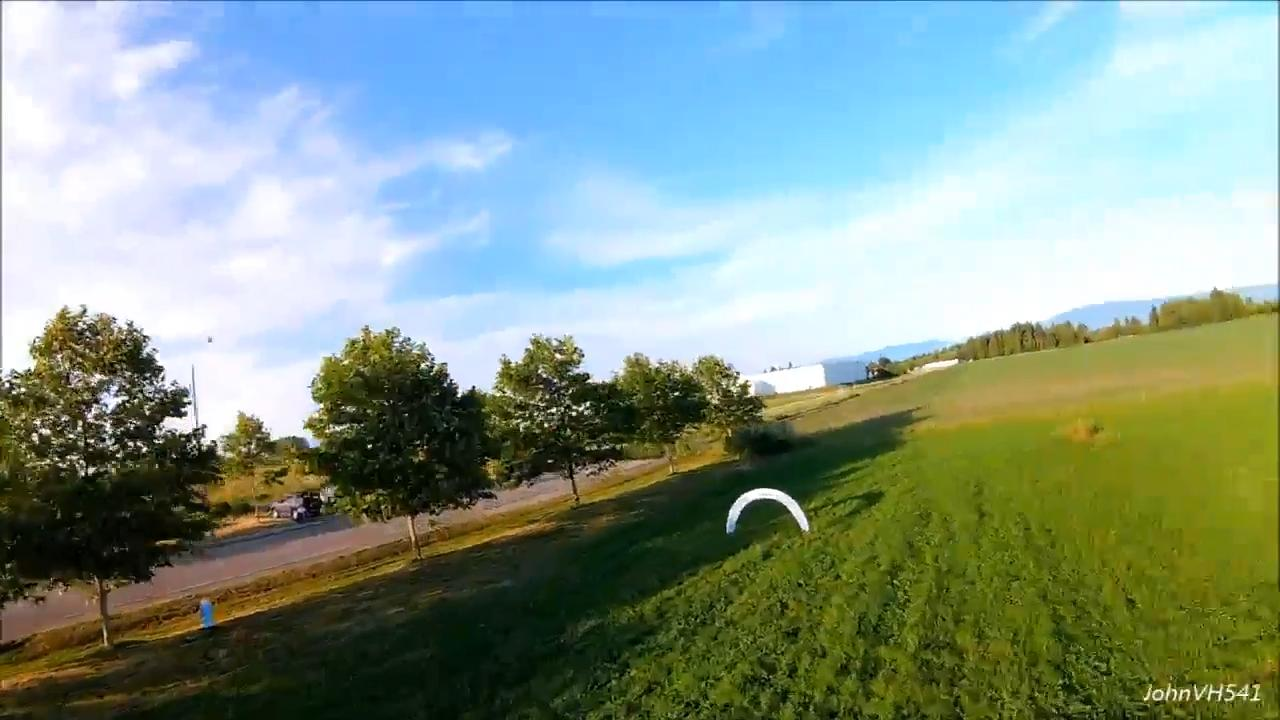gate: (721, 488, 810, 531)
